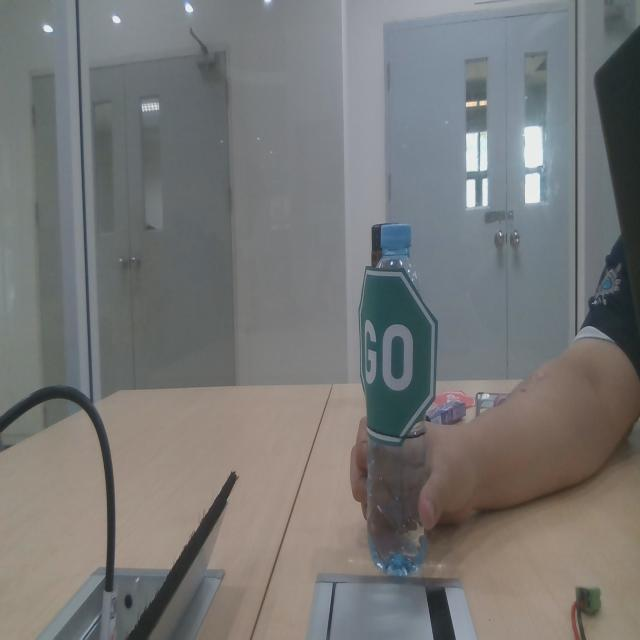Go: (345, 252, 448, 456)
